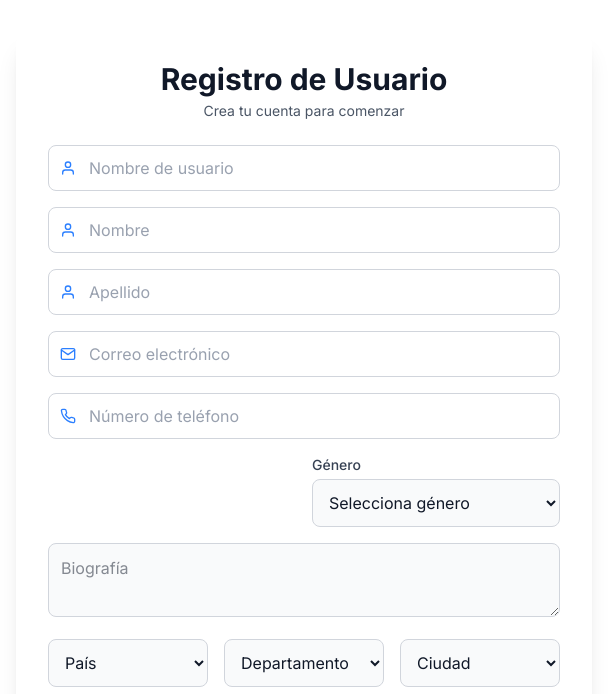
Test: RegisterForm › debe mostrar error si el email es inválido
Expected: the heading "Registro de Usuario" is shown, [161, 61, 447, 97]
In the field with placeholder "Correo electrónico": (304, 354) [48, 331, 560, 377], type "correo-mal"
(page scrolled)
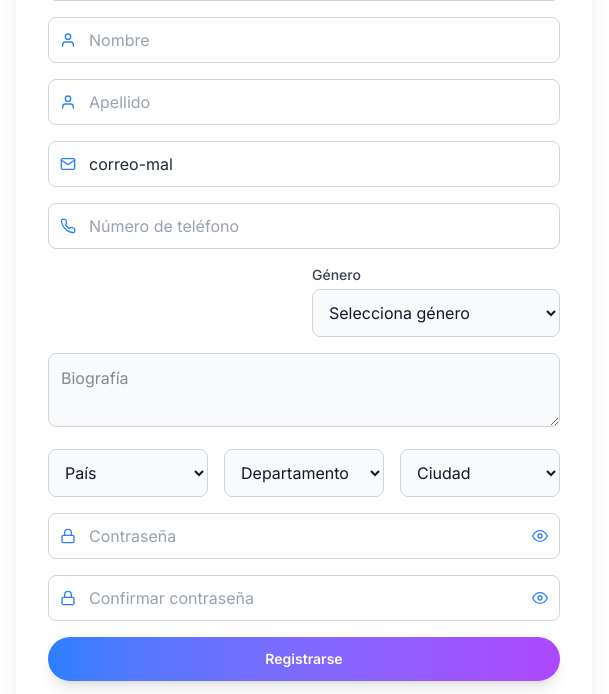
Click the button "Registrarse": (304, 659) [48, 637, 560, 681]
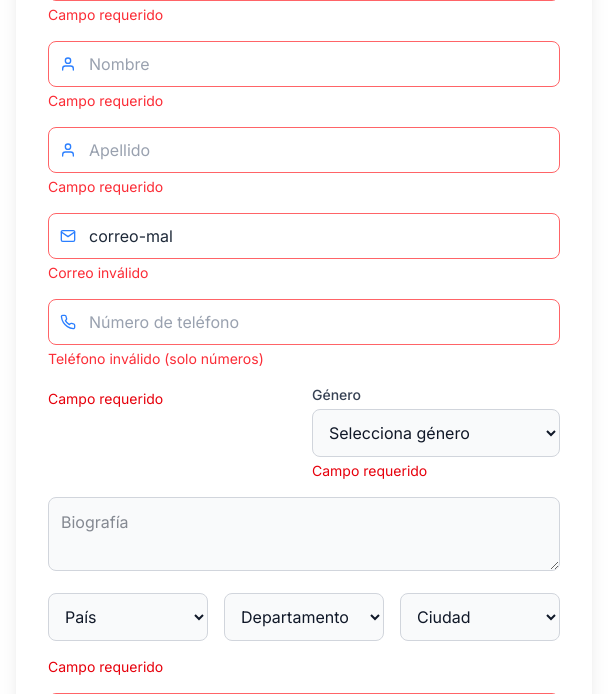
Result: the text "Correo inválido" is shown at [48, 264, 148, 281]
